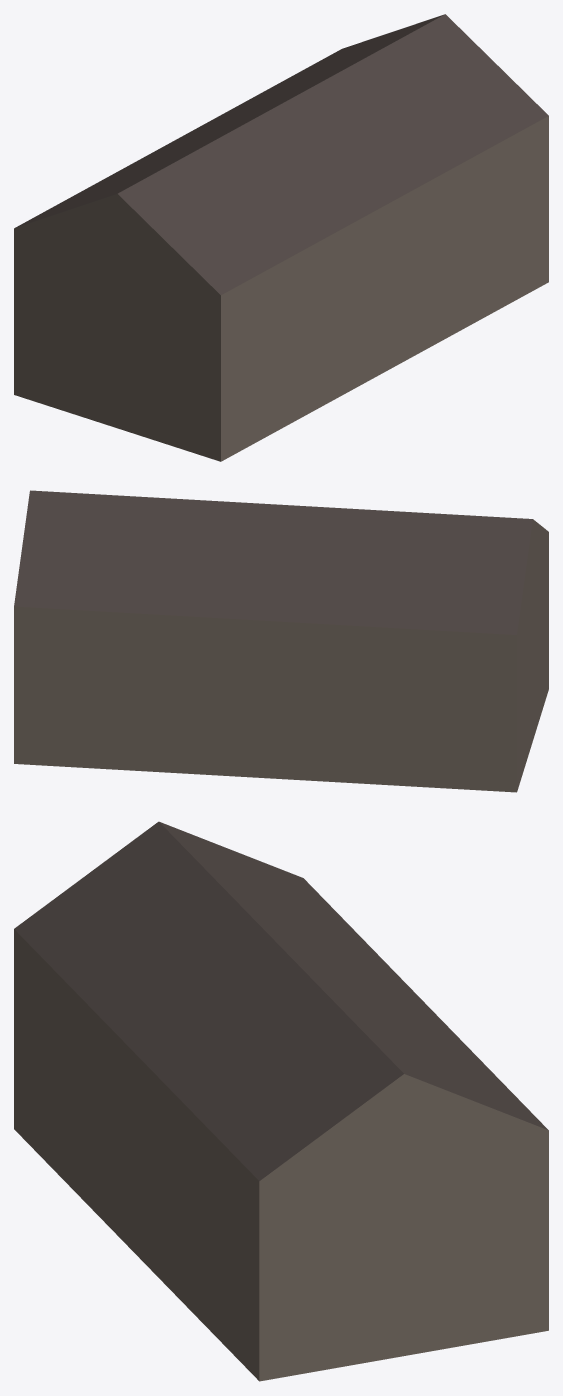
3 views of the same model, one above another, from view 1: azimuth 30°, elevation 25°; view 2: azimuth 150°, elevation 25°; view 3: azimuth 270°, elevation 25° (orthographic). The views are drawn at different scales.
Visible parts, largest first — view 1: HP-w373833600; view 2: HP-w373833600; view 3: HP-w373833600.
Boxes of the visible parts, x1,y1,x2,y2 form: HP-w373833600: [14, 14, 548, 461]; HP-w373833600: [14, 490, 548, 792]; HP-w373833600: [14, 821, 548, 1381].
Bounding box in the file's own units: 29.23 × 12.69 × 21.8.
